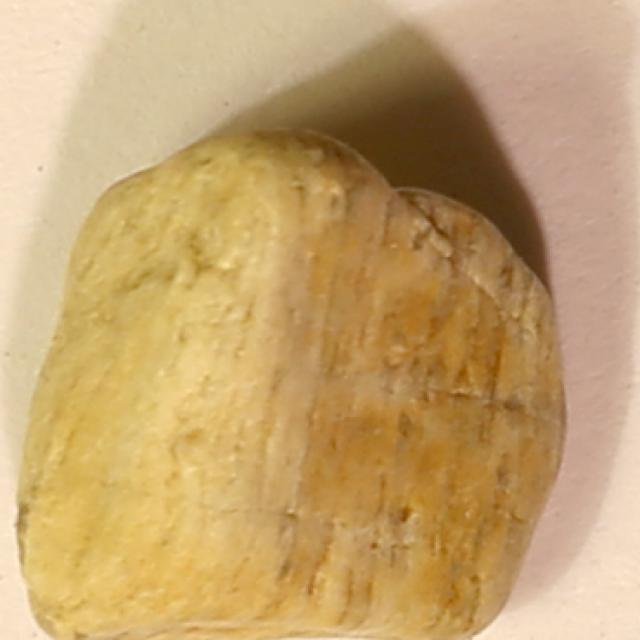stone: (11, 115, 566, 639)
